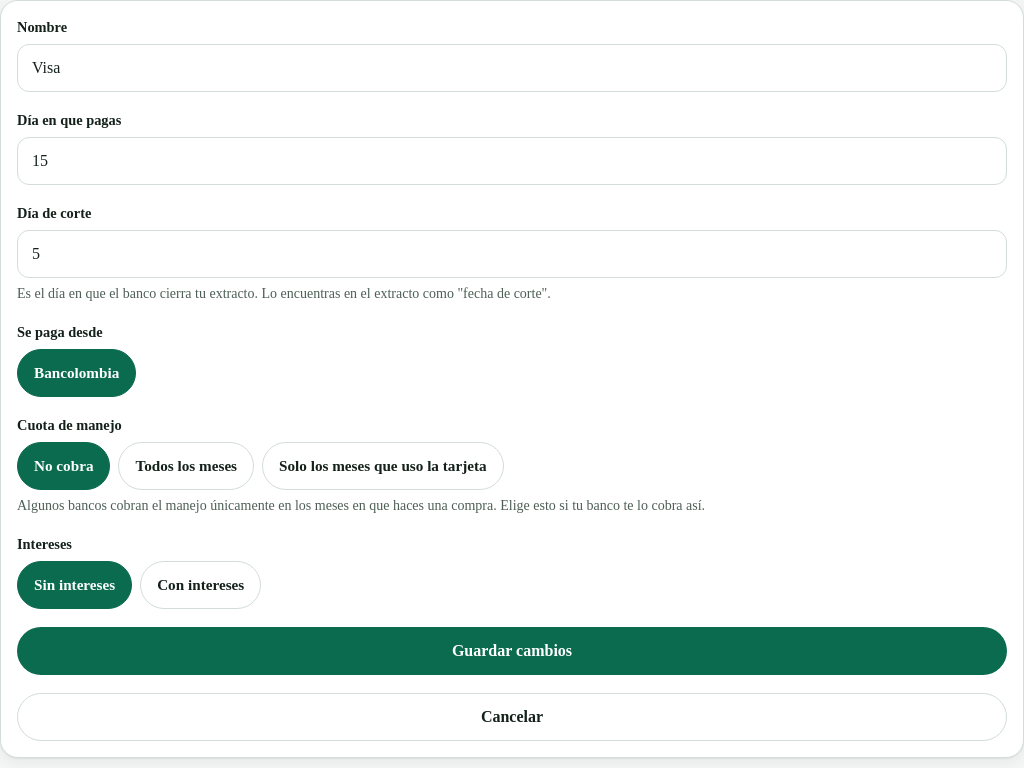
Test: CardForm: día de corte › al editar viene precargado y un cambio pasa por el aviso de manejo
The width and height of the screenshot is (1024, 768).
Replace the text in the field labelled "Día de corte" with "20". click: (512, 254)
box: [17,230,1007,278]
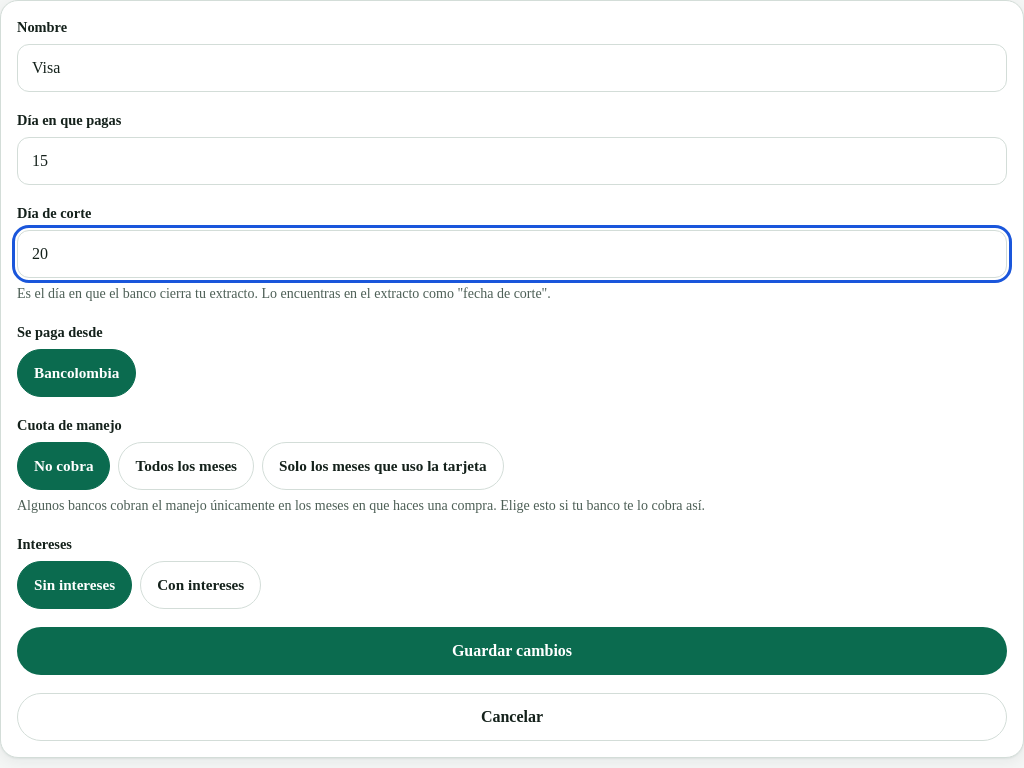
Click the button "Guardar cambios". click: (512, 651)
box: [17,627,1007,675]
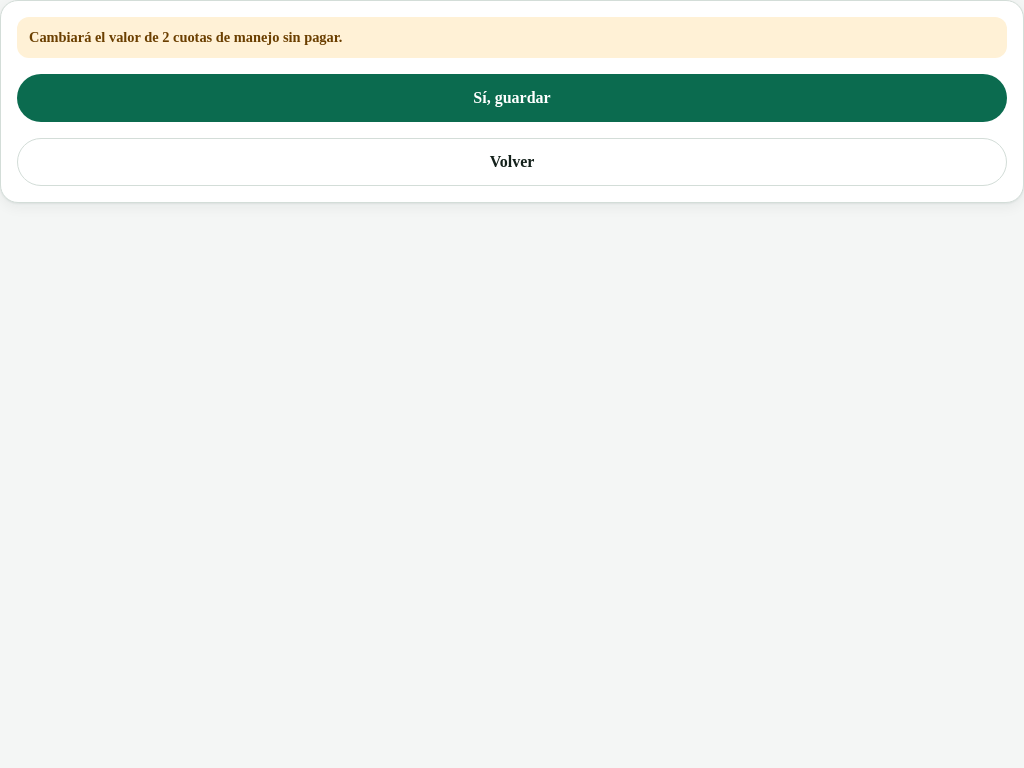
Expected: the text "Cambiará el valor de 2 cuotas de manejo sin pagar." is shown, [17,17,1007,58]
